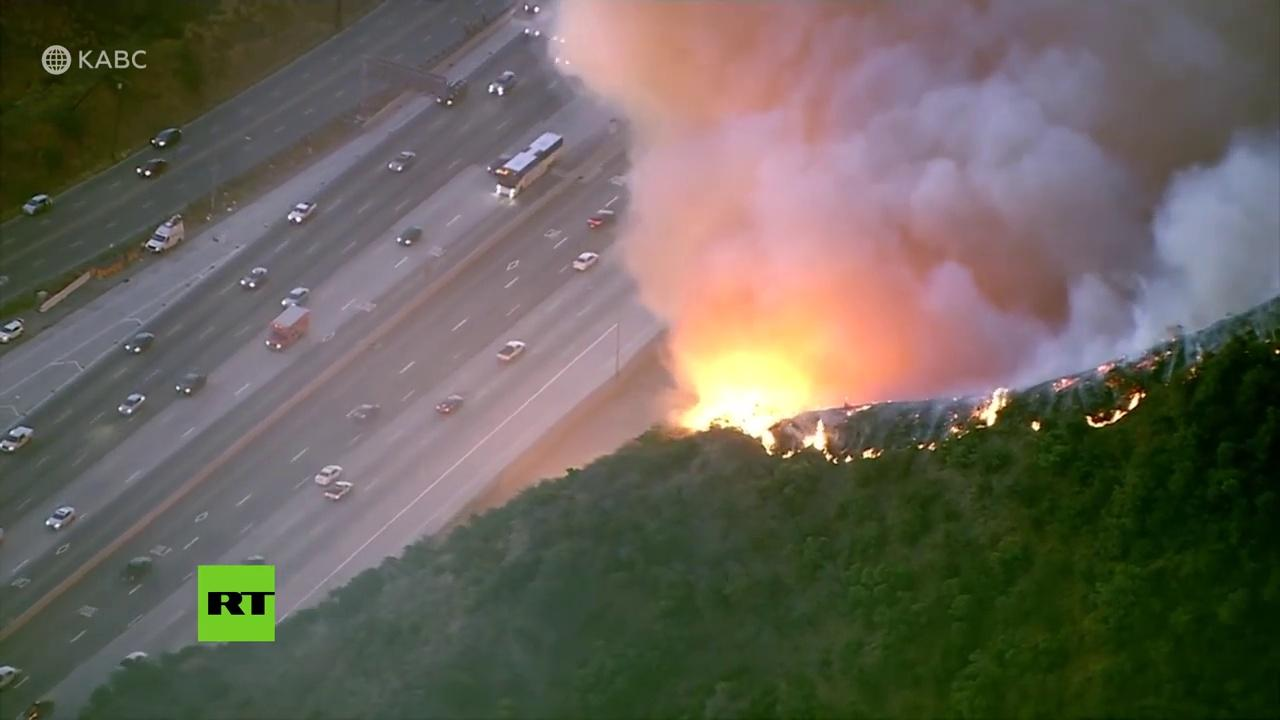Fire: (673, 358, 783, 457), (1079, 392, 1144, 430), (801, 423, 843, 466), (970, 383, 1008, 428), (864, 447, 882, 460)
